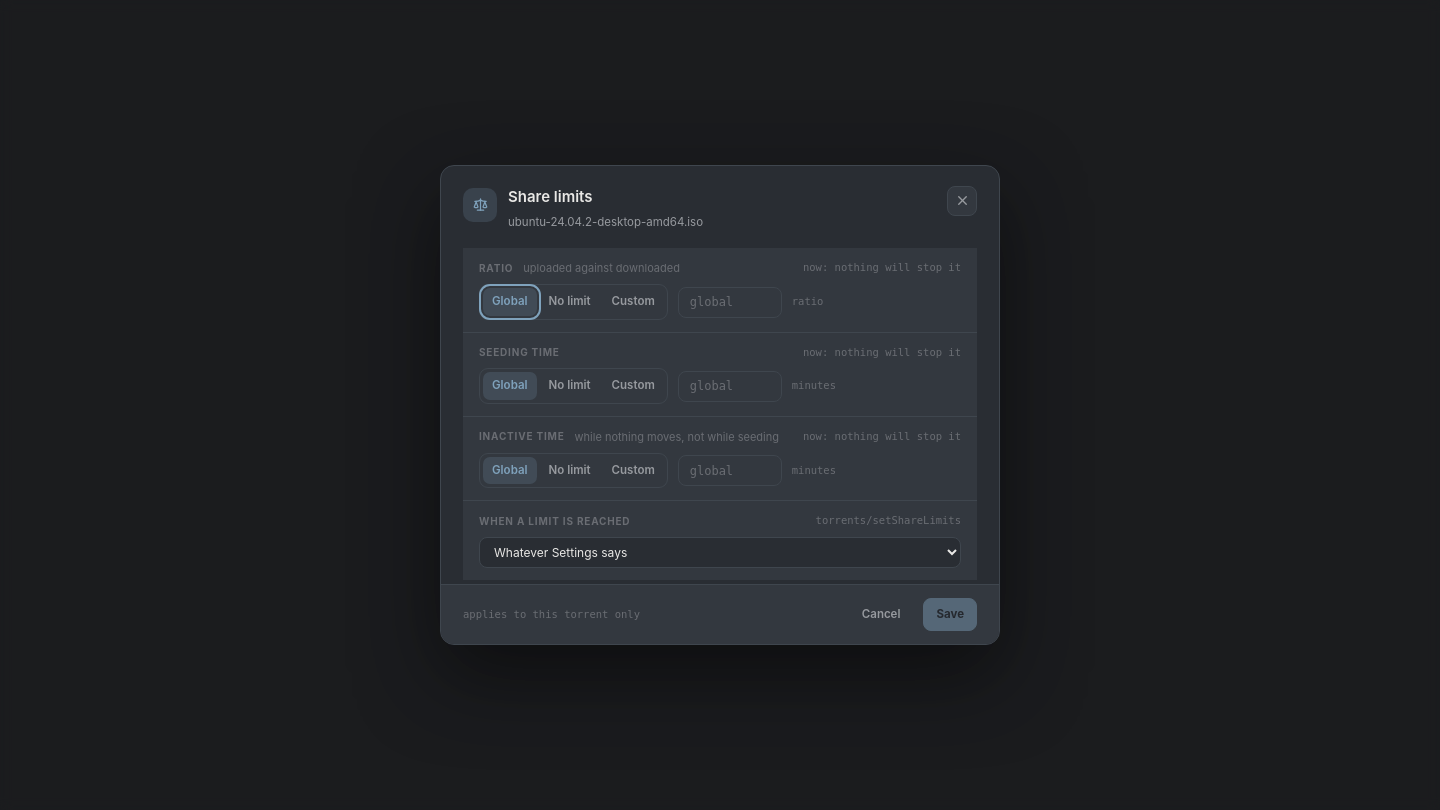
Test case: ShareLimitDialog › offers the destructive action by what it destroys
The image size is (1440, 810).
Select "Remove the torrent and delete the files" in the dropdown named "When a limit is reached" at (720, 553), box [479, 537, 961, 568]
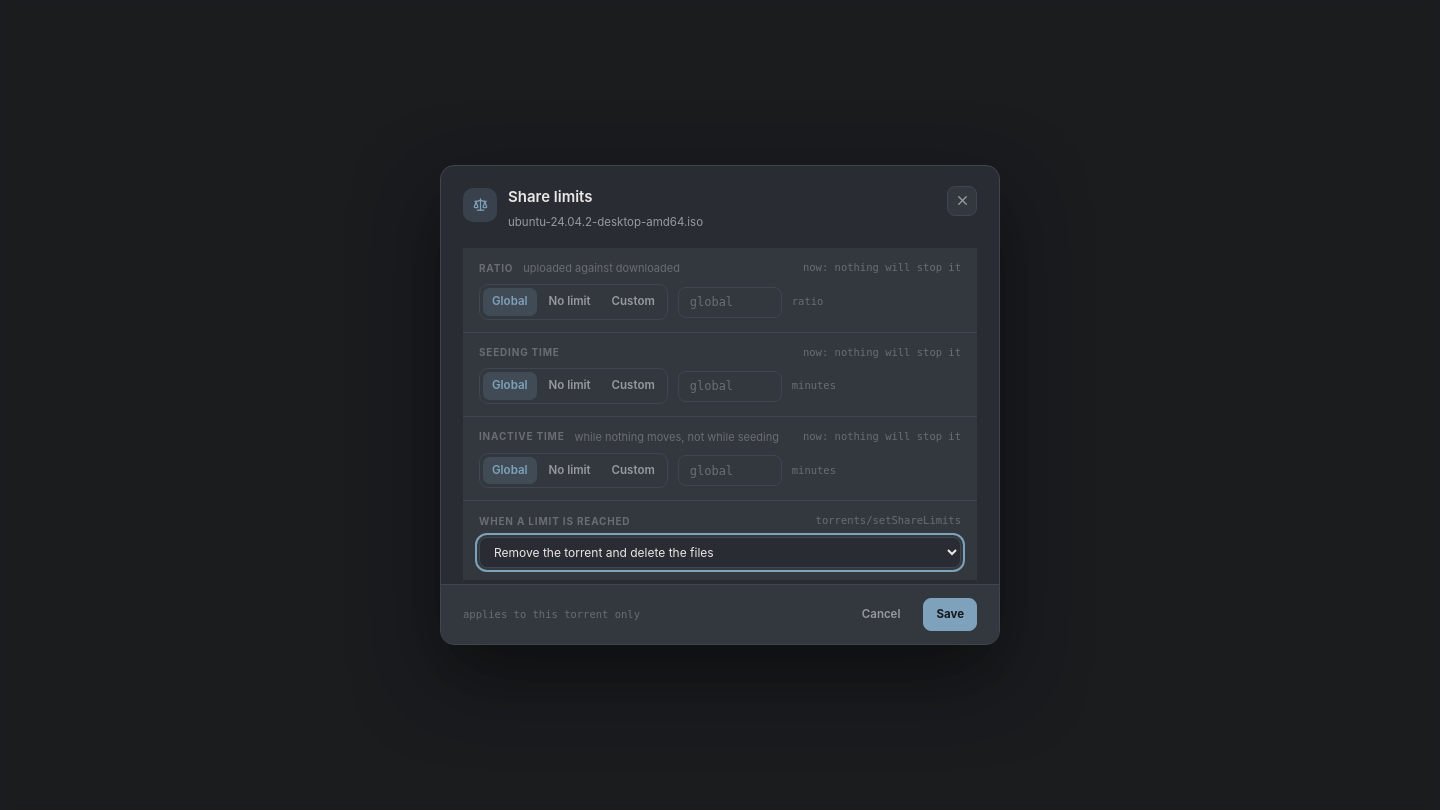
Expected: the button "Save" is enabled, [923, 598, 977, 632]
